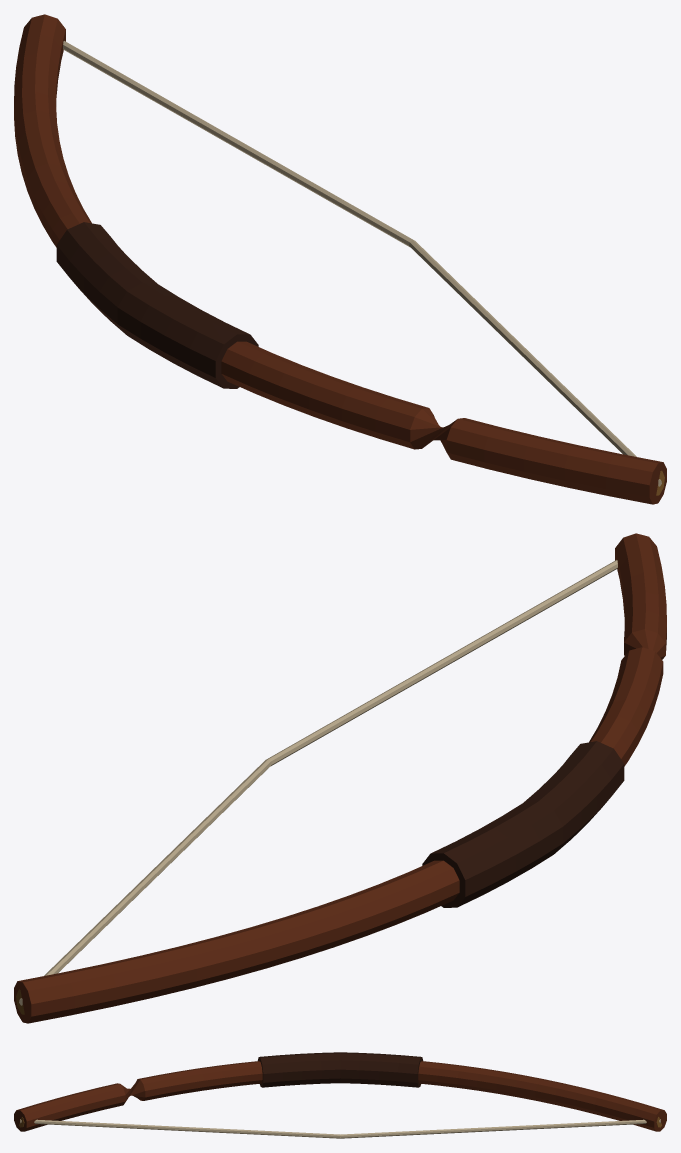
The model's file is SM_Weapon_ShortBow_A.obj.
3 renders of one model, top to bottom at view 1: azimuth 30°, elevation 25°; view 2: azimuth 150°, elevation 25°; view 3: azimuth 270°, elevation 25°, orthographic. The views are drawn at different scales.
Parts seen in each view (by area): view 1: SM_Weapon_ShortBow_A; view 2: SM_Weapon_ShortBow_A; view 3: SM_Weapon_ShortBow_A.
Boxes of the visible parts, left/top/right/bottom form: SM_Weapon_ShortBow_A: left=14, top=14, right=666, bottom=504; SM_Weapon_ShortBow_A: left=14, top=533, right=666, bottom=1023; SM_Weapon_ShortBow_A: left=14, top=1052, right=666, bottom=1138.
Bounding box in the file's own units: 34.26 × 6 × 124.
